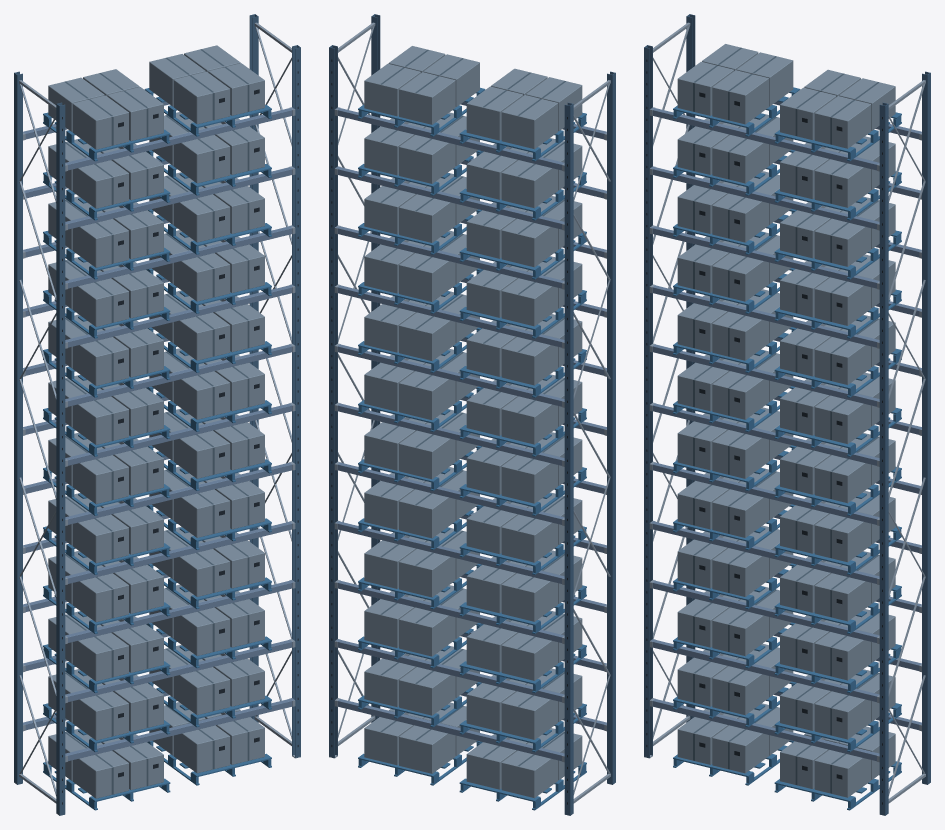
Rendered from SM_GHS_V2Rack_B_W32553.fbx.
3 renders of one model, left to right at view 1: azimuth 30°, elevation 25°; view 2: azimuth 150°, elevation 25°; view 3: azimuth 330°, elevation 25°, orthographic.
Parts seen in each view (by area): view 1: SM_GHS_V2Rack_B_W32553; view 2: SM_GHS_V2Rack_B_W32553; view 3: SM_GHS_V2Rack_B_W32553.
Part boxes in pixels (x1,y1,x2,y2): SM_GHS_V2Rack_B_W32553: (14,14,300,815); SM_GHS_V2Rack_B_W32553: (329,14,615,815); SM_GHS_V2Rack_B_W32553: (644,14,930,815).
Size of the model in its own units: 326 by 122 by 915.
